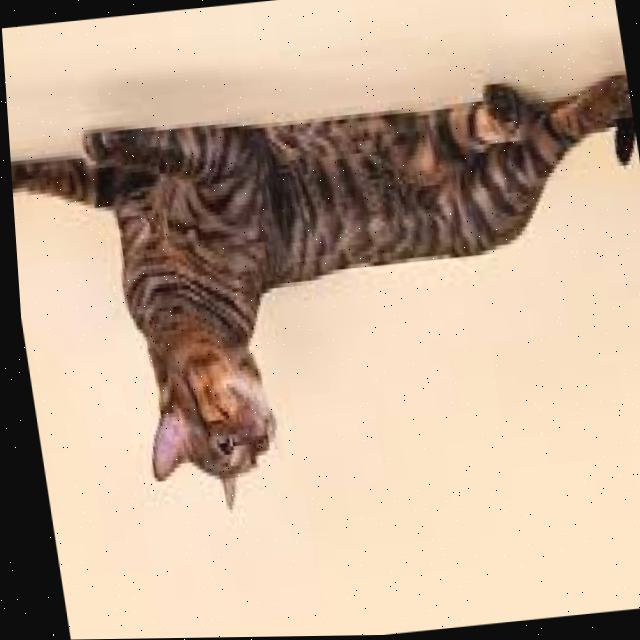Toyger: (4, 63, 640, 538)
